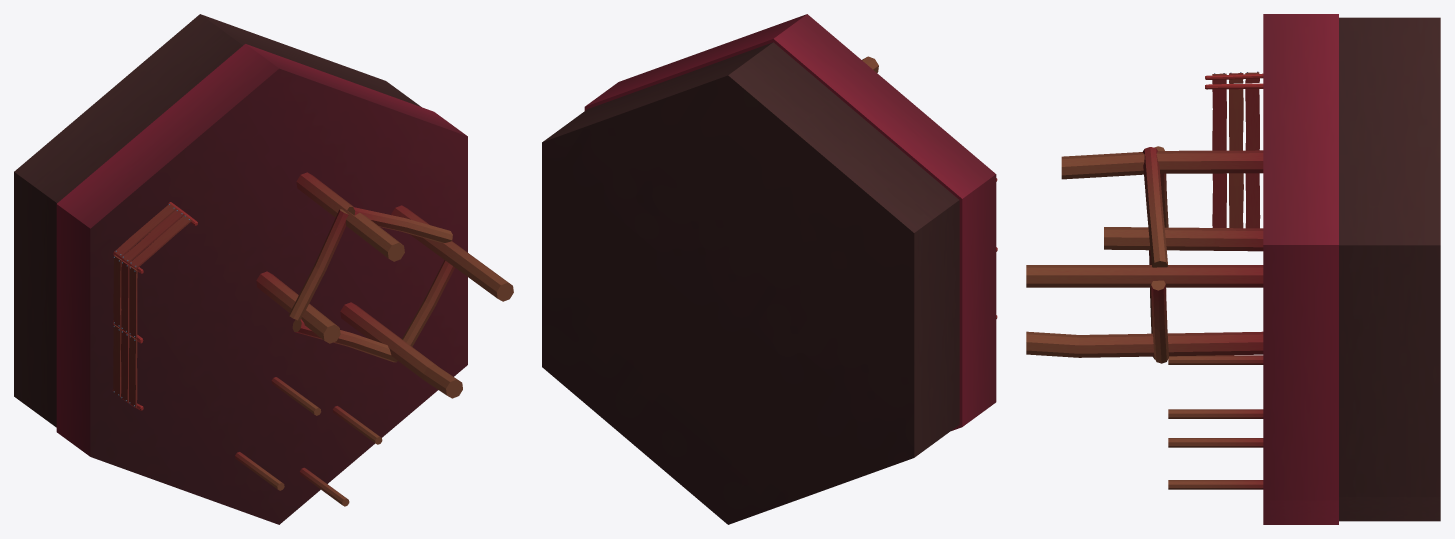
File: DOrff_S_DEAD.fbx
The picture shows the model from 3 angles, left to right: view 1: azimuth 30°, elevation 25°; view 2: azimuth 150°, elevation 25°; view 3: azimuth 270°, elevation 25°; orthographic projection. The views are drawn at different scales.
Parts seen in each view (by area): view 1: DOrff_S_DEAD; view 2: DOrff_S_DEAD; view 3: DOrff_S_DEAD.
Part boxes in pixels (left/top/right/bottom): DOrff_S_DEAD: left=14, top=14, right=513, bottom=524; DOrff_S_DEAD: left=542, top=14, right=997, bottom=524; DOrff_S_DEAD: left=1026, top=14, right=1440, bottom=524.
Size of the model in its own units: 172 by 199 by 146.
